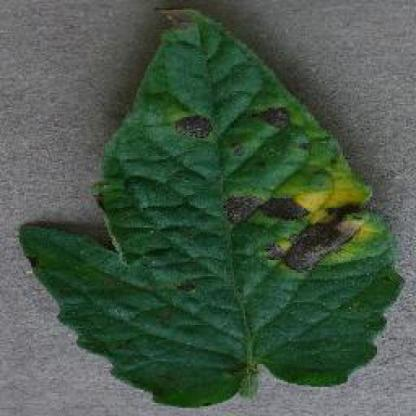Tomato_Blight: (20, 6, 400, 406)
